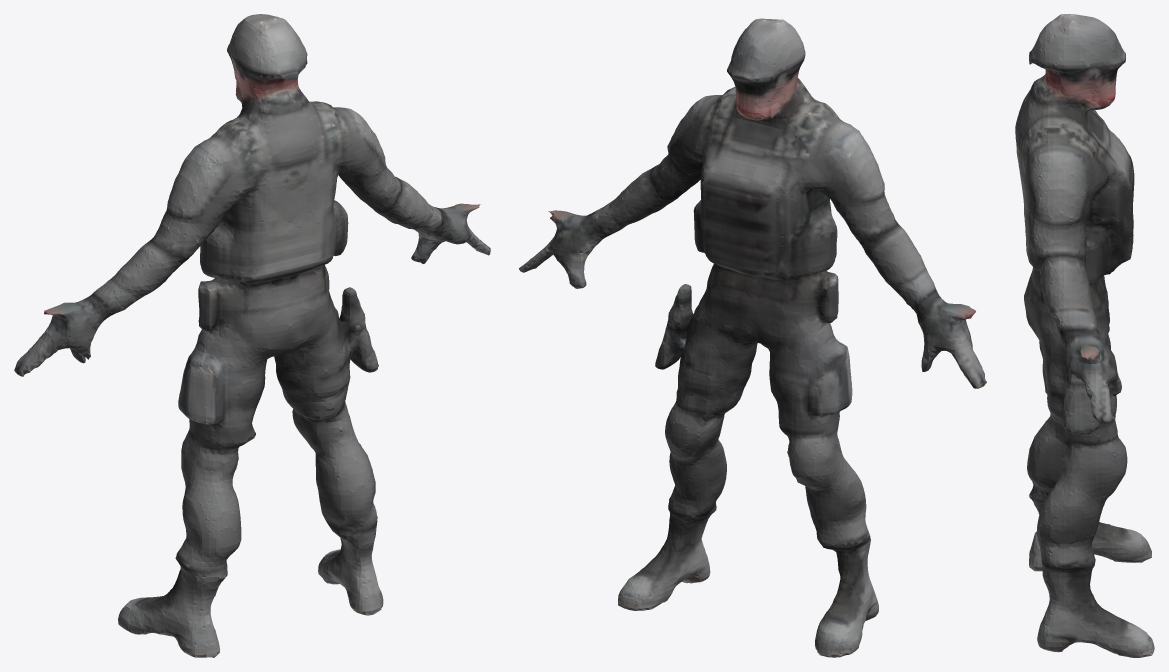
File: tactical_operator_raw.glb
3 views of the same model, side by side, from view 1: azimuth 30°, elevation 25°; view 2: azimuth 150°, elevation 25°; view 3: azimuth 270°, elevation 25° (orthographic). The views are drawn at different scales.
Parts seen in each view (by area): view 1: world; view 2: world; view 3: world.
Boxes of the visible parts, x1=… form: world: x1=14, y1=14, x2=490, y2=657; world: x1=519, y1=18, x2=986, y2=657; world: x1=1015, y1=14, x2=1154, y2=657.
Bounding box in the file's own units: 1.64 × 2 × 0.4306.
